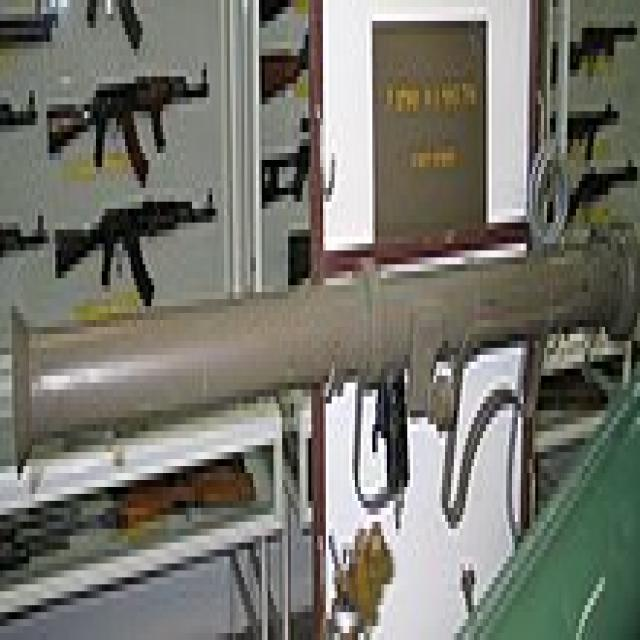Weapon: (6, 229, 637, 508), (50, 188, 218, 306), (44, 69, 212, 174), (547, 14, 637, 83)
